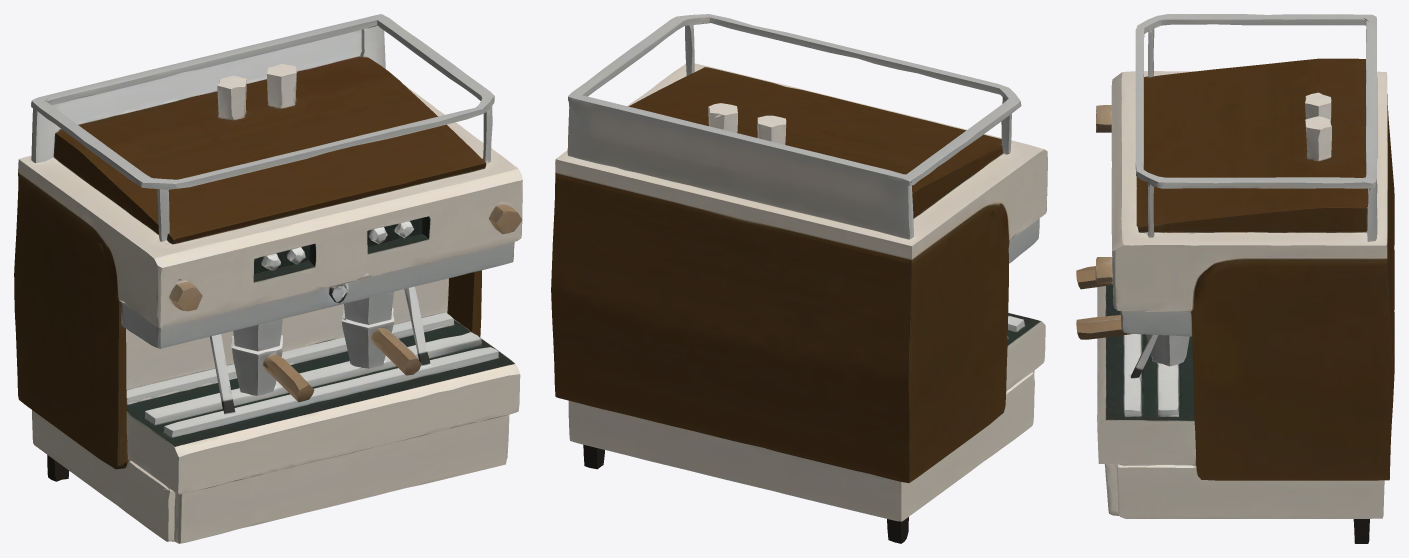
The model's file is espresso-rodin-low.glb.
The picture shows the model from 3 angles, left to right: view 1: azimuth 30°, elevation 25°; view 2: azimuth 150°, elevation 25°; view 3: azimuth 270°, elevation 25°; orthographic projection. The views are drawn at different scales.
Visible parts, largest first — view 1: Mesh; view 2: Mesh; view 3: Mesh.
Part boxes in pixels (bbox=[...]): Mesh: bbox=[14, 14, 522, 543]; Mesh: bbox=[551, 14, 1047, 543]; Mesh: bbox=[1076, 14, 1394, 543].
Size of the model in its own units: 1.75 by 1.73 by 1.35.
Materials: 1 (1 with a texture image).
